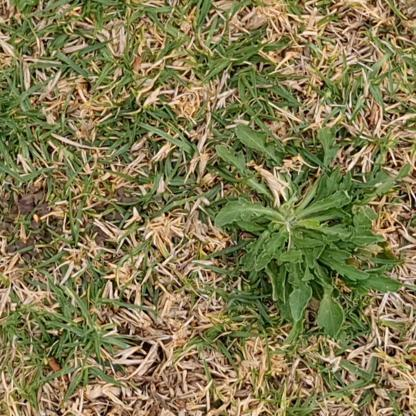Weeds: (216, 124, 401, 339)
